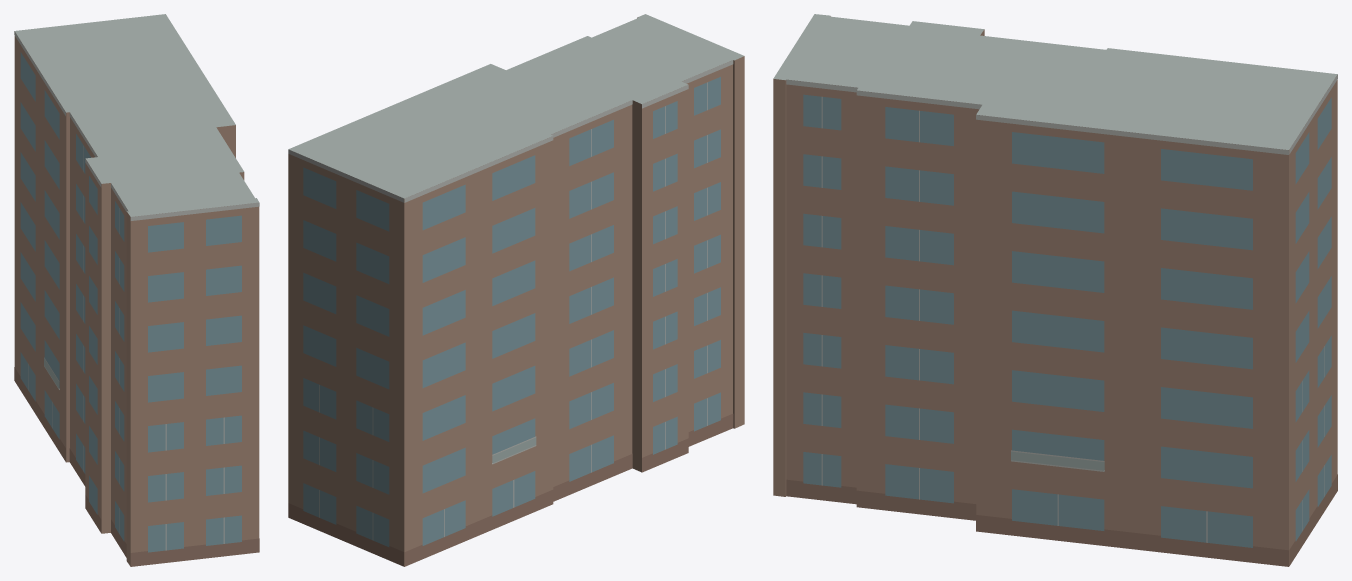
The model's file is survey-upis-33015697.glb.
3 views of the same model, side by side, from view 1: azimuth 30°, elevation 25°; view 2: azimuth 150°, elevation 25°; view 3: azimuth 270°, elevation 25° (orthographic). The views are drawn at different scales.
Visible parts, largest first — view 1: survey-upis-33015697.tmp; view 2: survey-upis-33015697.tmp; view 3: survey-upis-33015697.tmp.
Part boxes in pixels (left/top/right/bottom): survey-upis-33015697.tmp: left=14, top=14, right=259, bottom=566; survey-upis-33015697.tmp: left=288, top=14, right=744, bottom=566; survey-upis-33015697.tmp: left=773, top=14, right=1337, bottom=566.
Size of the model in its own units: 14.37 by 20.5 by 25.17.
